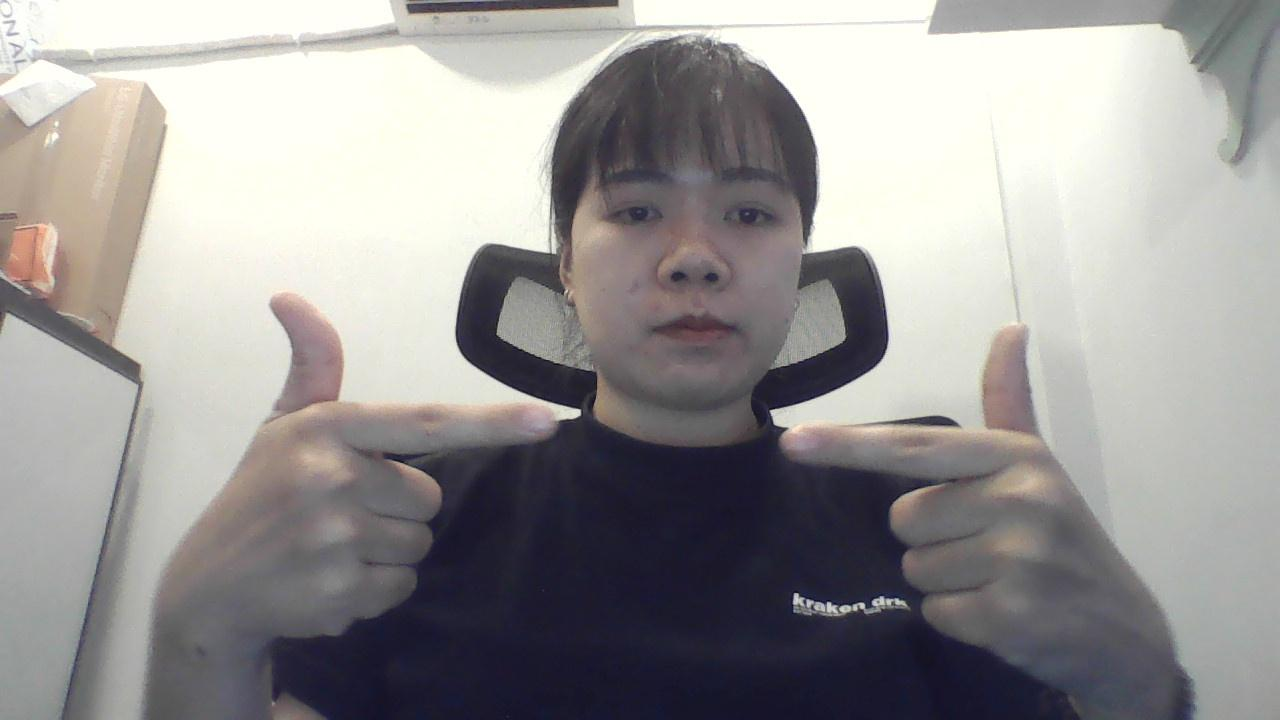G: (151, 274, 571, 651), (777, 317, 1184, 687)
